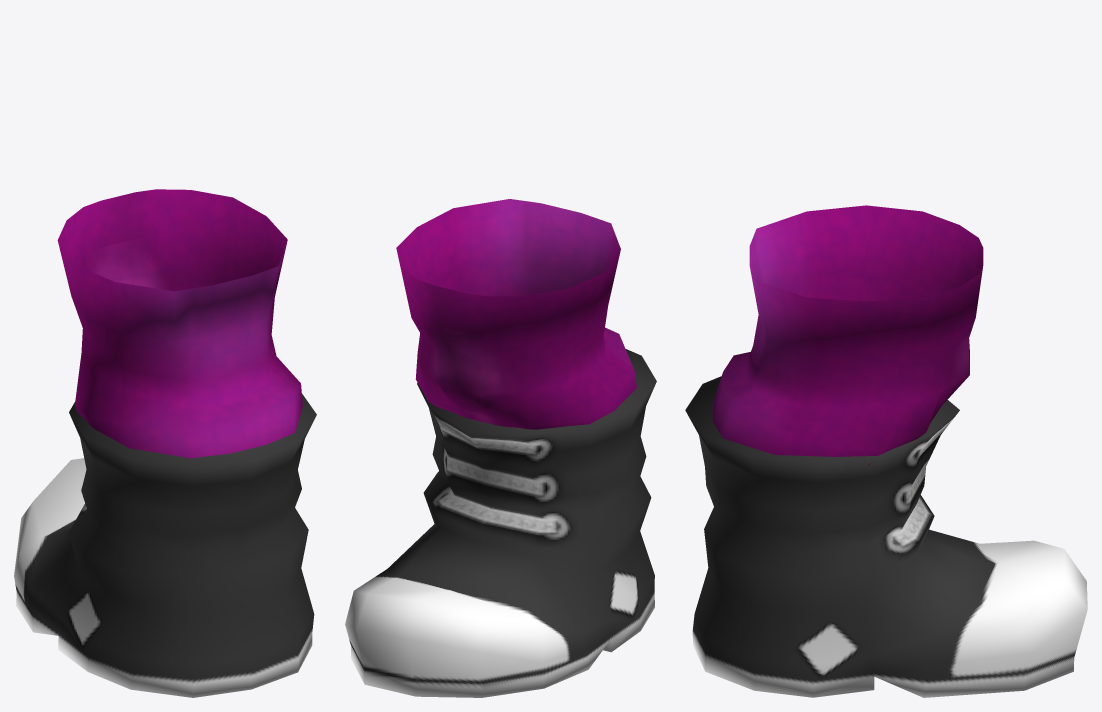
The picture shows the model from 3 angles, left to right: view 1: azimuth 30°, elevation 25°; view 2: azimuth 150°, elevation 25°; view 3: azimuth 270°, elevation 25°; orthographic projection. The views are drawn at different scales.
Parts seen in each view (by area): view 1: Mesh; view 2: Mesh; view 3: Mesh.
Boxes of the visible parts, <box> form: Mesh: <box>14,189,316,697</box>; Mesh: <box>345,199,656,697</box>; Mesh: <box>685,205,1087,697</box>.
Size of the model in its own units: 0.8533 by 2.25 by 1.34.
